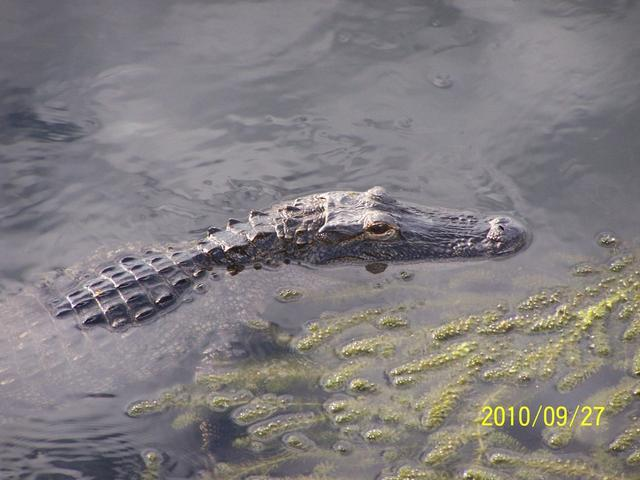crocodile: (52, 157, 556, 339)
